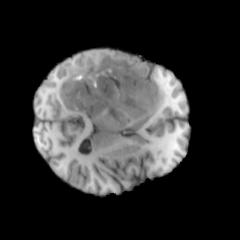glioma: (53, 51, 165, 126)
